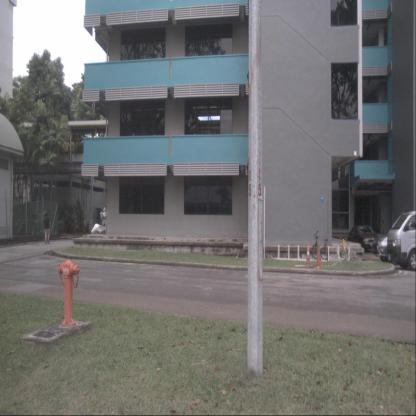cone: (314, 244, 324, 268), (304, 242, 312, 267)
